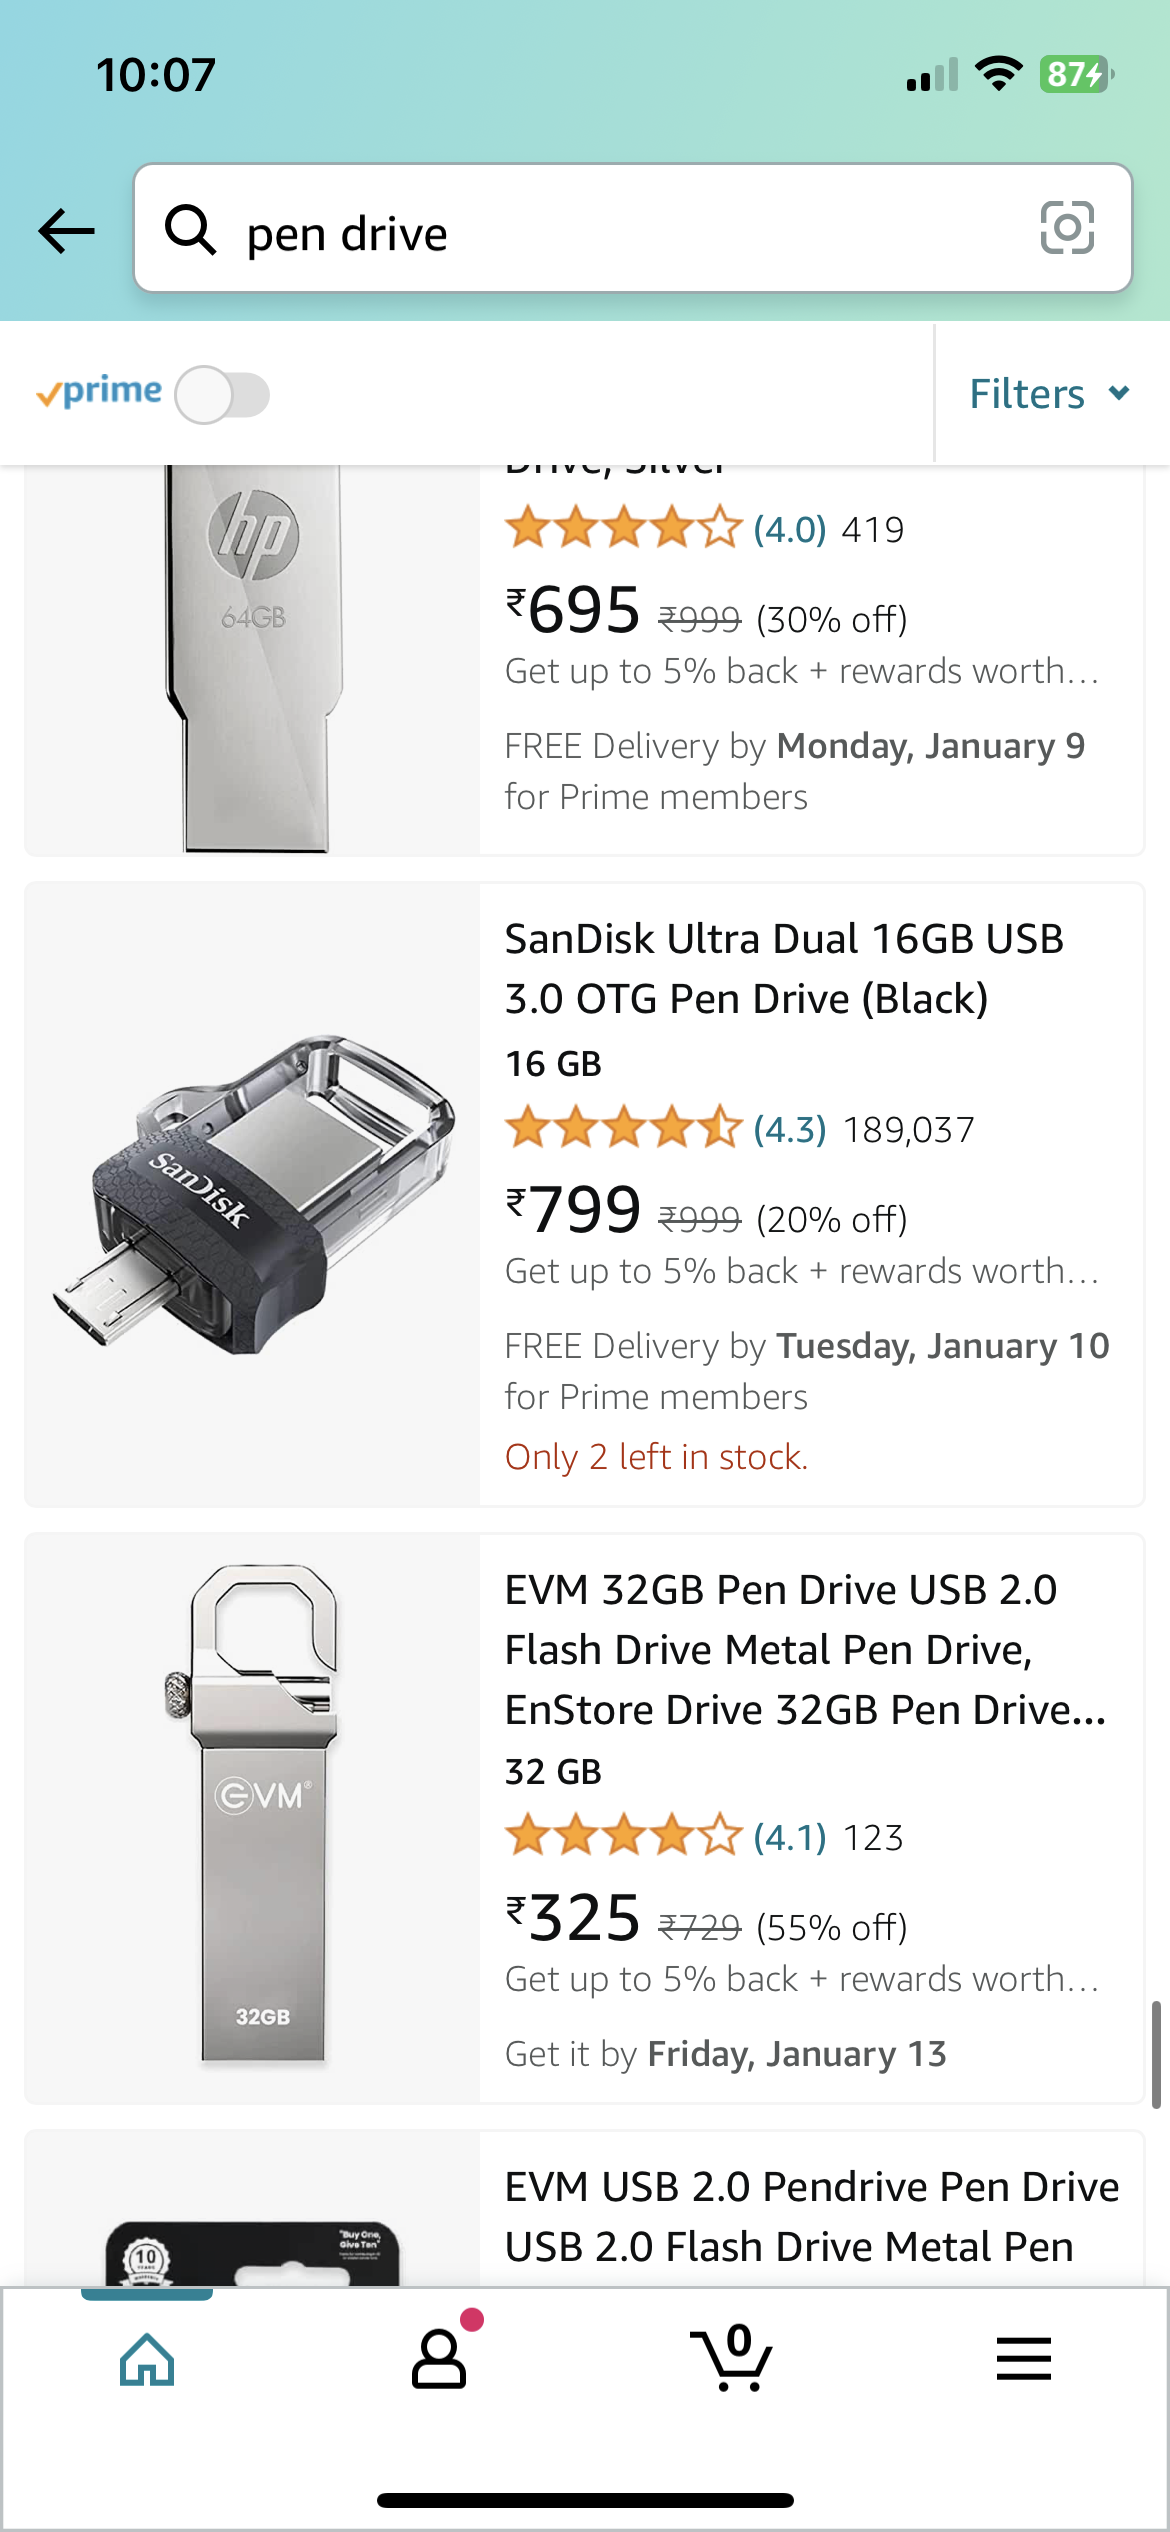PenDrive: (44, 1025, 462, 1369), (158, 1558, 352, 2070)
